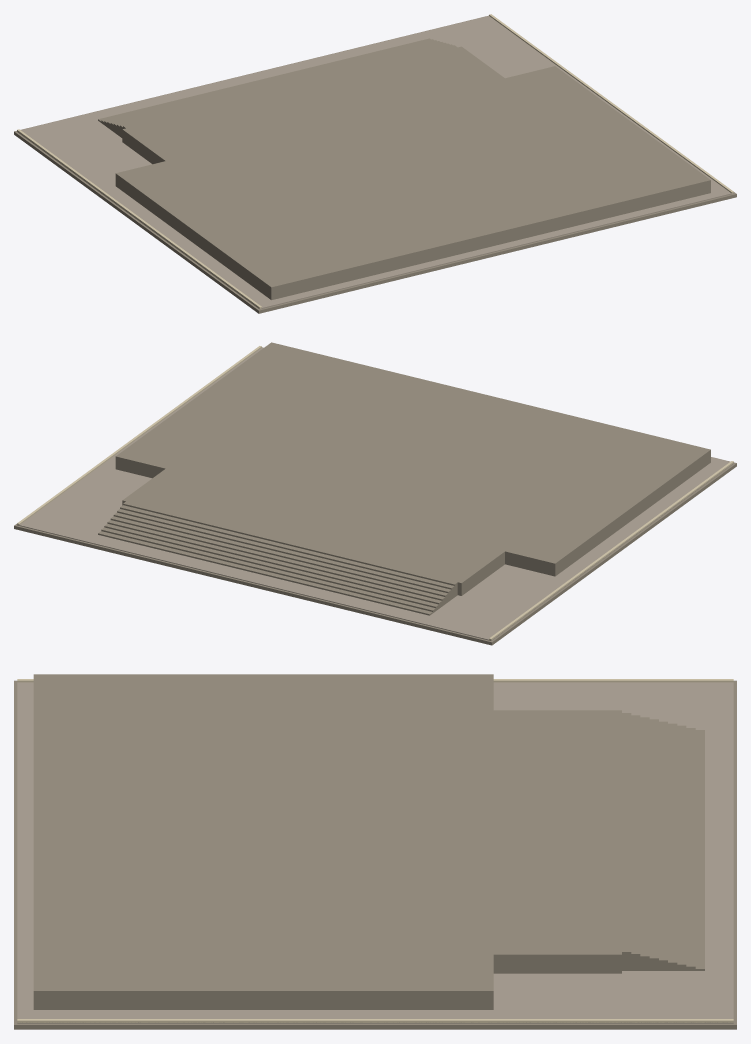
Rendered from KOL_T1_TOWN_HALL__00_Foundation.fbx.
The picture shows the model from 3 angles, top to bottom: view 1: azimuth 30°, elevation 25°; view 2: azimuth 150°, elevation 25°; view 3: azimuth 270°, elevation 25°; orthographic projection. The views are drawn at different scales.
Parts seen in each view (by area): view 1: KOL_T1_TOWN_HALL__00_Foundation__KOL_T1_HeritageStone, KOL_T1_TOWN_HALL__00_Foundation__KOL_T1_HeritagePaving, KOL_T1_TOWN_HALL__00_Foundation__KOL_T1_HeritageCream; view 2: KOL_T1_TOWN_HALL__00_Foundation__KOL_T1_HeritageStone, KOL_T1_TOWN_HALL__00_Foundation__KOL_T1_HeritagePaving, KOL_T1_TOWN_HALL__00_Foundation__KOL_T1_HeritageCream; view 3: KOL_T1_TOWN_HALL__00_Foundation__KOL_T1_HeritageStone, KOL_T1_TOWN_HALL__00_Foundation__KOL_T1_HeritagePaving, KOL_T1_TOWN_HALL__00_Foundation__KOL_T1_HeritageCream.
Part boxes in pixels (left/top/right/bottom): KOL_T1_TOWN_HALL__00_Foundation__KOL_T1_HeritageStone: left=14, top=15, right=736, bottom=313; KOL_T1_TOWN_HALL__00_Foundation__KOL_T1_HeritagePaving: left=17, top=16, right=733, bottom=309; KOL_T1_TOWN_HALL__00_Foundation__KOL_T1_HeritageCream: left=17, top=14, right=733, bottom=308; KOL_T1_TOWN_HALL__00_Foundation__KOL_T1_HeritageStone: left=14, top=342, right=736, bottom=645; KOL_T1_TOWN_HALL__00_Foundation__KOL_T1_HeritagePaving: left=17, top=347, right=733, bottom=640; KOL_T1_TOWN_HALL__00_Foundation__KOL_T1_HeritageCream: left=17, top=346, right=733, bottom=640; KOL_T1_TOWN_HALL__00_Foundation__KOL_T1_HeritageStone: left=14, top=674, right=736, bottom=1029; KOL_T1_TOWN_HALL__00_Foundation__KOL_T1_HeritagePaving: left=17, top=682, right=733, bottom=1023; KOL_T1_TOWN_HALL__00_Foundation__KOL_T1_HeritageCream: left=17, top=679, right=733, bottom=1022.
Size of the model in its own units: 124 by 4.2 by 110.
